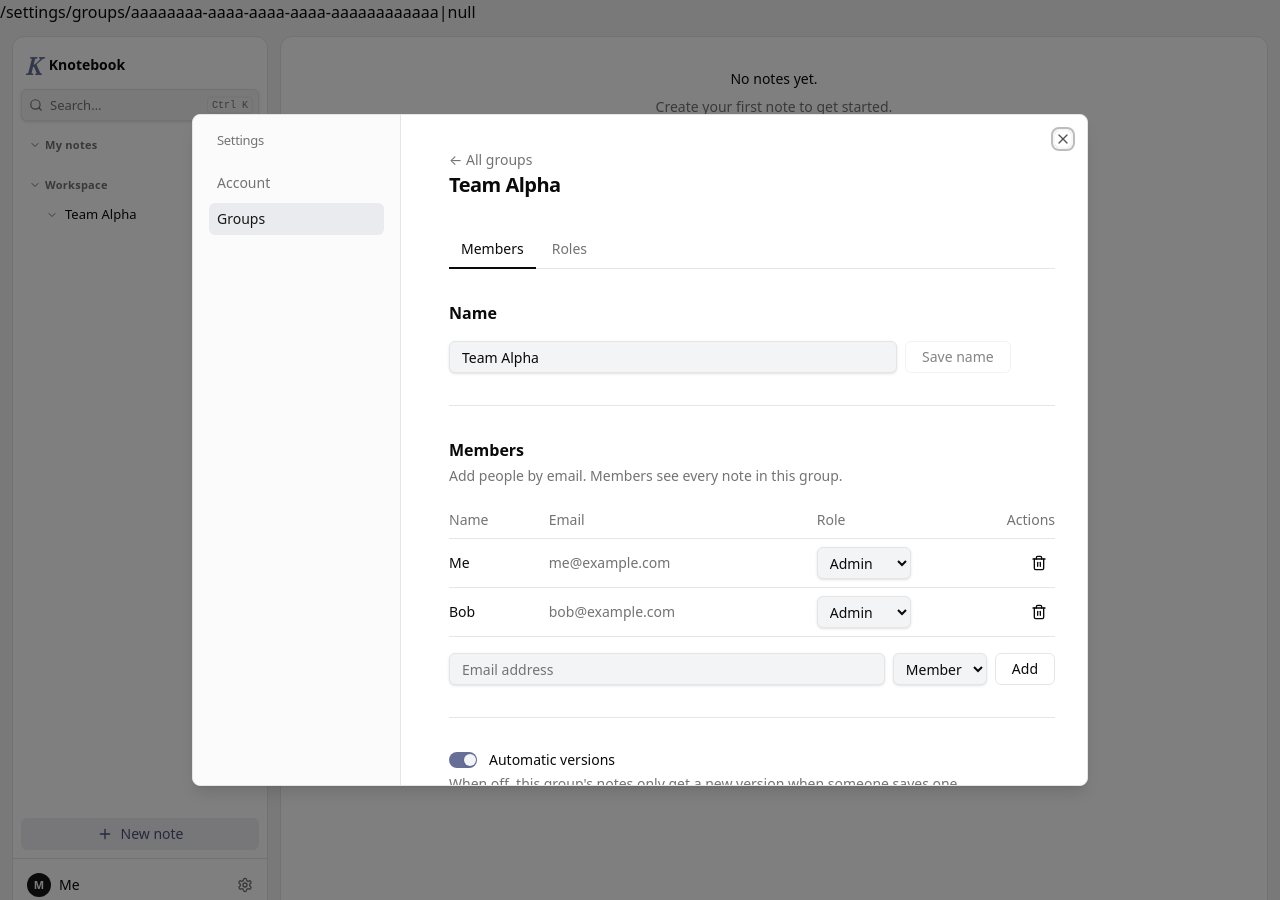
Test: SettingsGroupDetailSection（/settings/groups/:id，spec §8.5） › #175 gate r2 M-7：兩位管理員、沒有一般成員的群組，把其中一位降成一般成員 → PATCH body 是 {roleId: 一般成員角色 id}
Select "Member" in the dropdown named "Role for bob@example.com". click: coordinates (864, 612)
box: [817, 596, 911, 628]
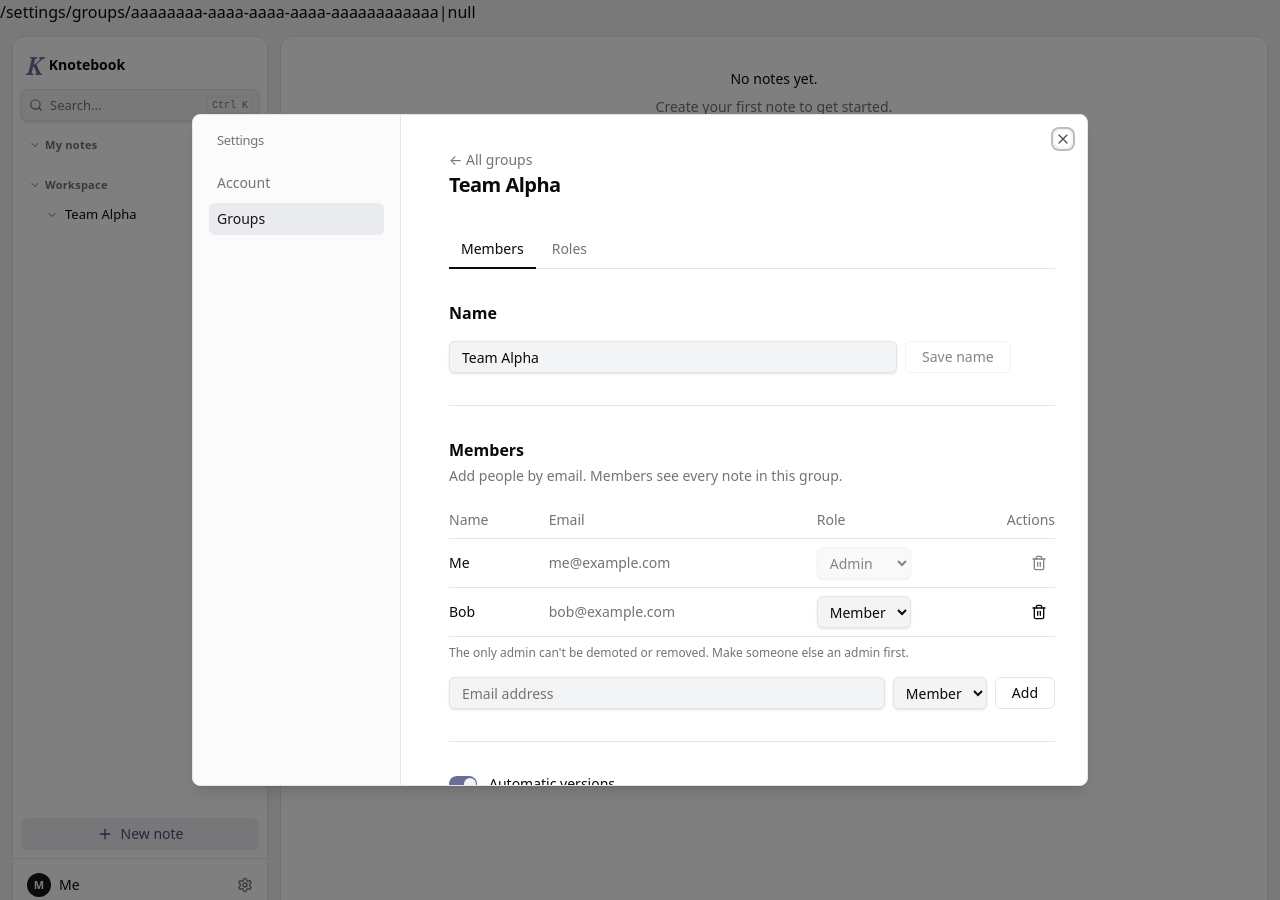
expect the dropdown named "Role for me@example.com" is disabled: met, box [817, 547, 911, 579]
